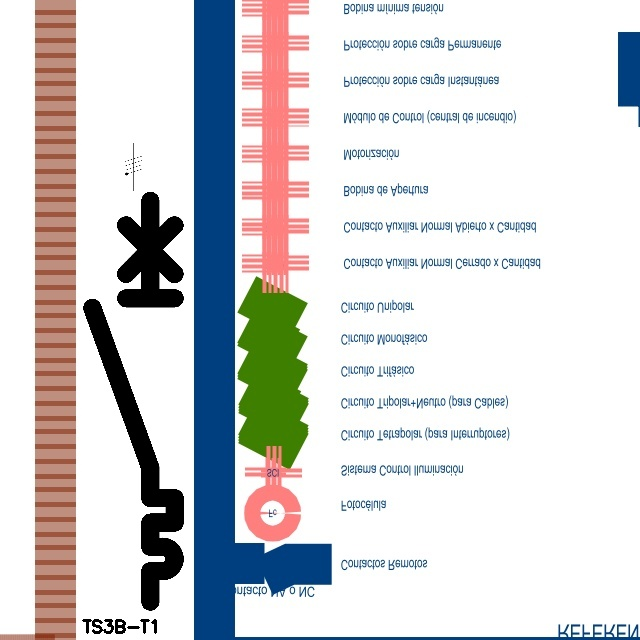interruptor_termomagnetico: (82, 190, 185, 612)
